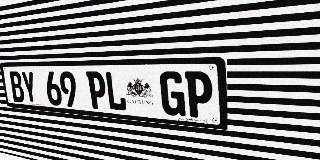6: (44, 71, 63, 106)
9: (59, 71, 79, 107)
B: (8, 71, 25, 103)
G: (159, 71, 186, 117)
L: (104, 71, 127, 112)
P: (185, 71, 213, 119), (86, 71, 108, 110)
Y: (20, 71, 38, 104)
